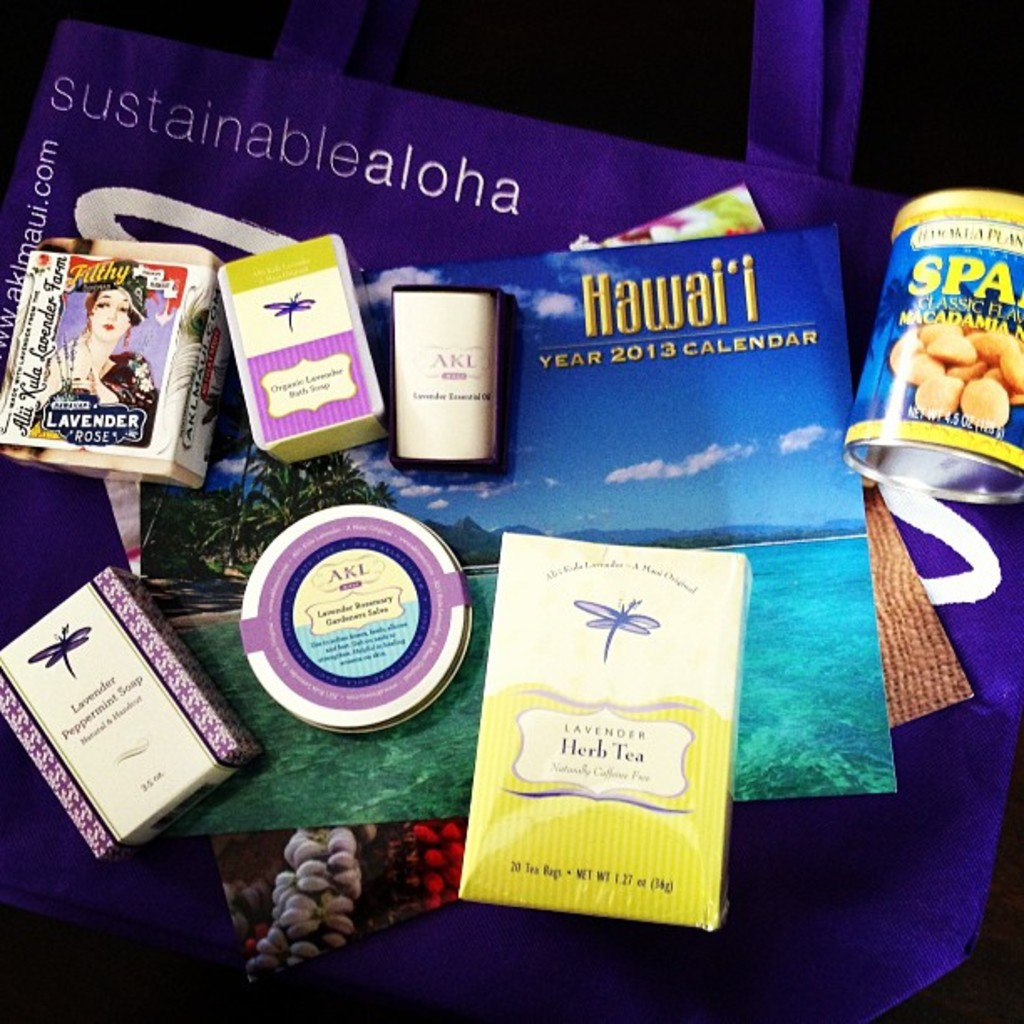Person: (39, 289, 156, 408)
